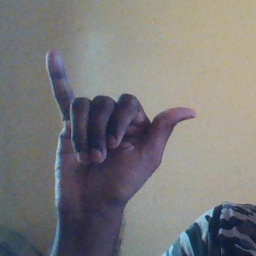J: (41, 48, 197, 201)
